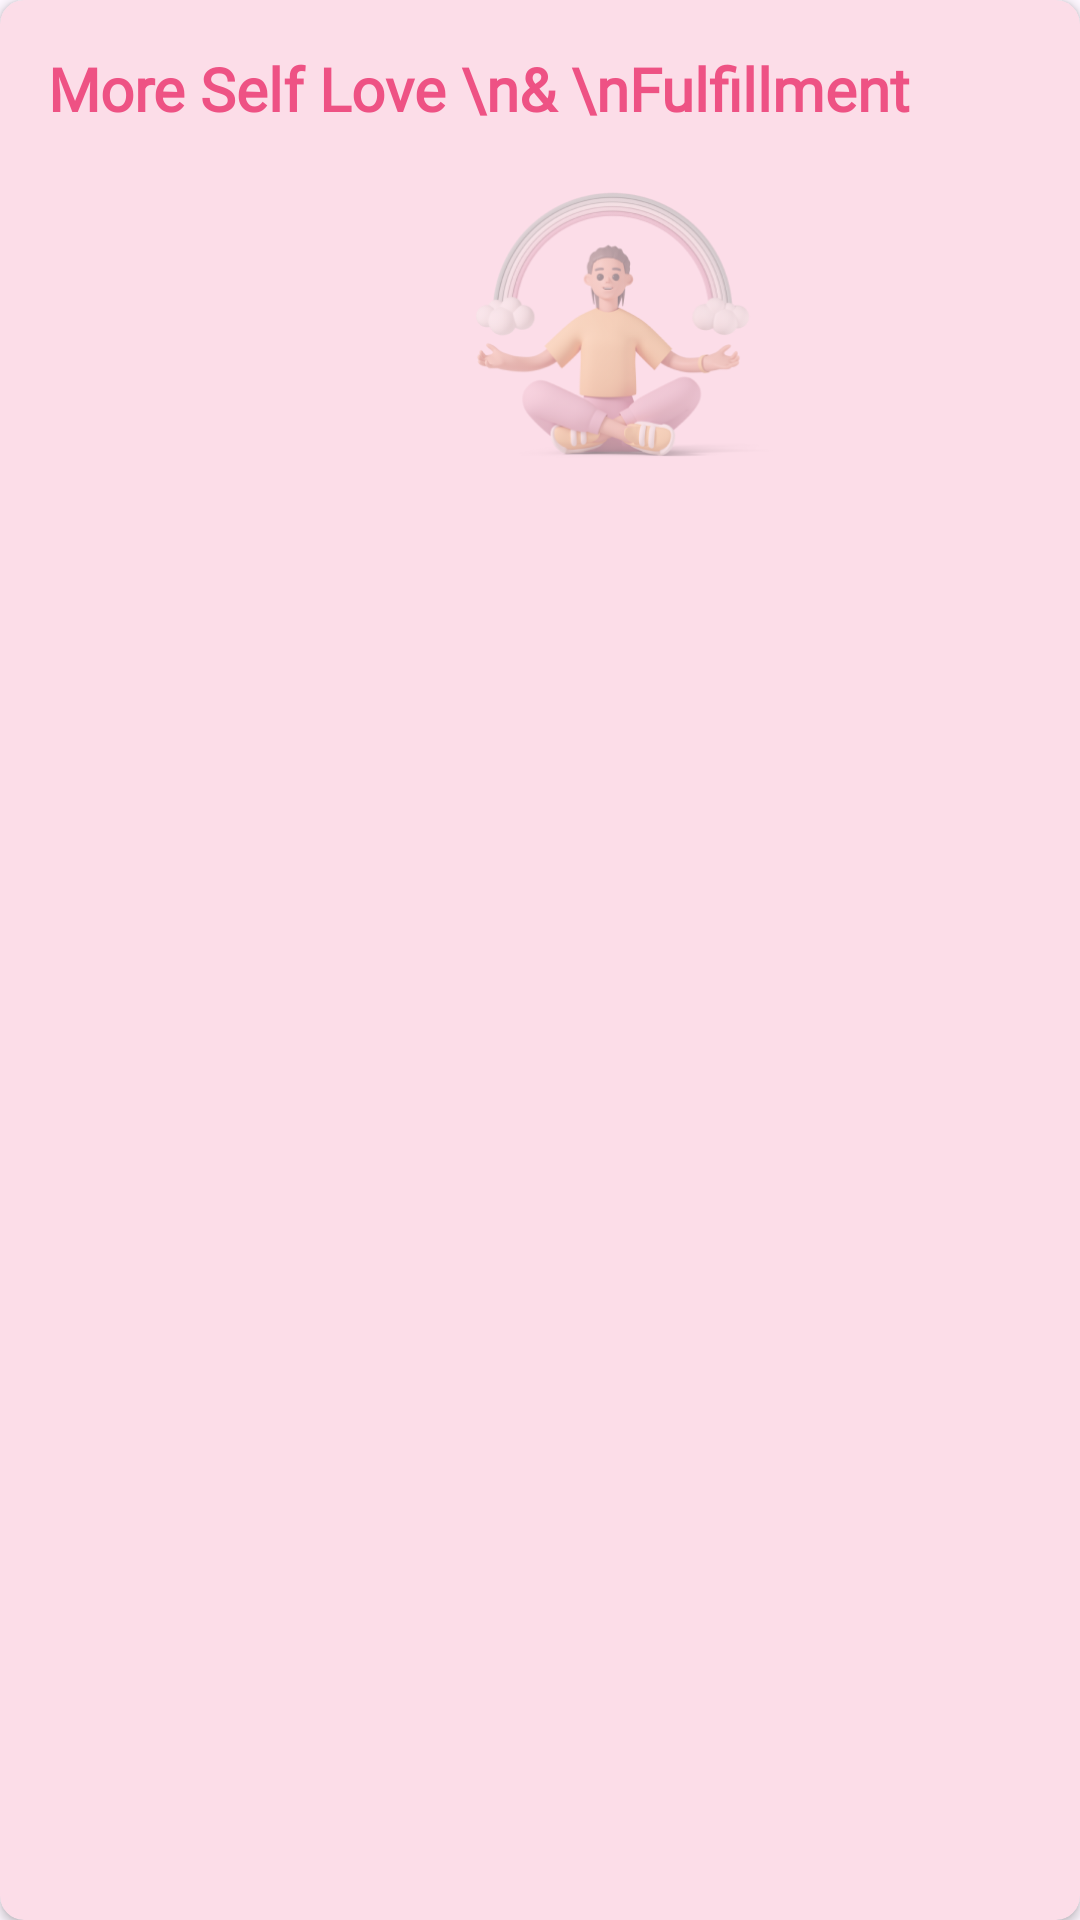

Locate icon controls on the screen. Image size 1080w x 1920h, boxes as (x1, y1, x2, y2).
mom mental: (478, 193, 739, 456)
